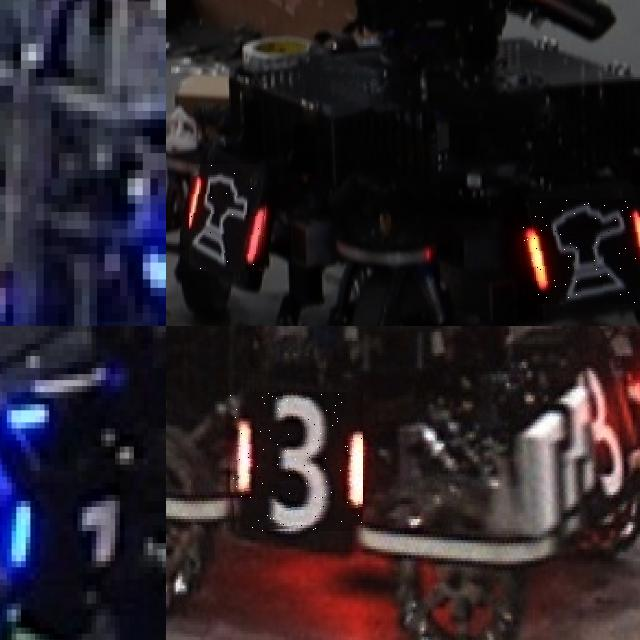R3: (226, 392, 363, 531)
Rs: (518, 199, 640, 303), (190, 164, 268, 271)
